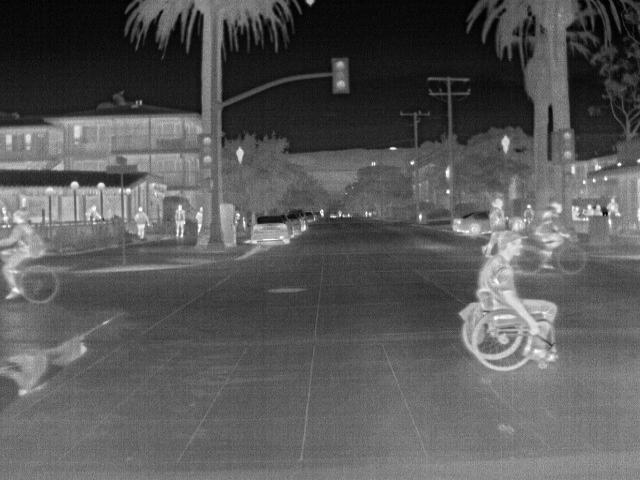car: (249, 218, 289, 248), (452, 209, 491, 239), (280, 209, 306, 233), (282, 219, 301, 238), (509, 216, 526, 234)
person: (478, 235, 558, 361), (1, 205, 46, 301), (534, 203, 574, 268), (489, 195, 511, 233), (171, 203, 188, 240), (132, 205, 149, 240), (195, 204, 207, 237), (521, 204, 534, 230), (86, 204, 106, 220), (605, 196, 621, 215), (592, 204, 606, 218), (583, 204, 596, 216)
